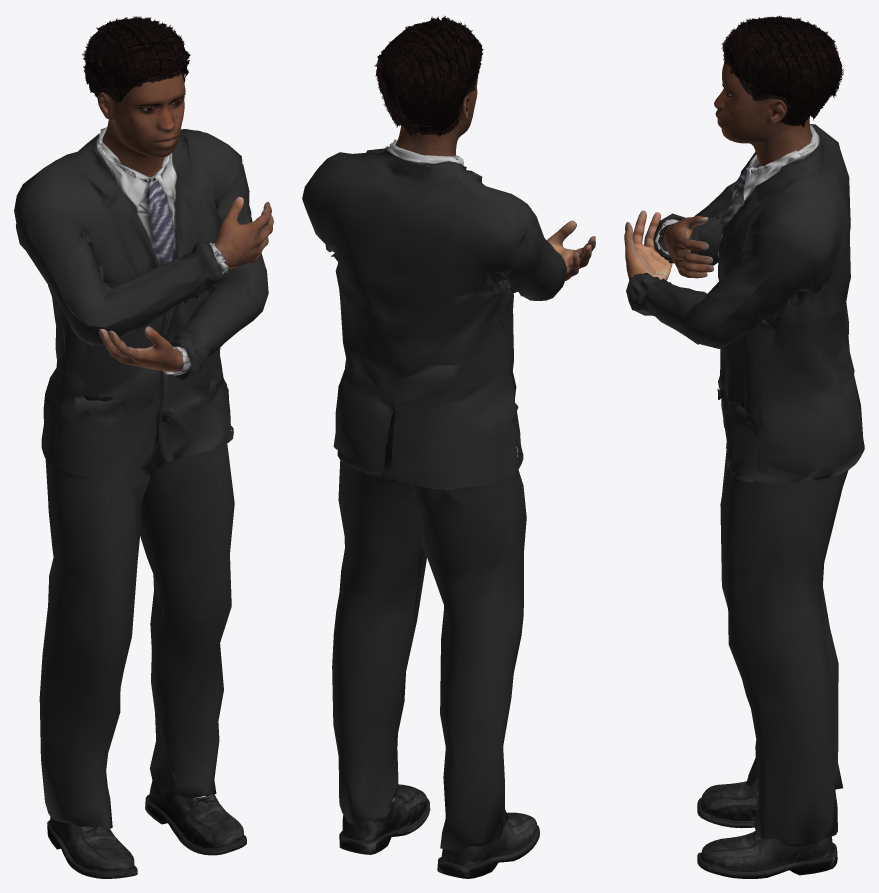
The model's file is security.glb.
3 renders of one model, left to right at view 1: azimuth 30°, elevation 25°; view 2: azimuth 150°, elevation 25°; view 3: azimuth 270°, elevation 25°, orthographic.
Visible parts, largest first — view 1: male_elegantsuit01, Jordan | anatomical body, shoes04, afro01; view 2: male_elegantsuit01, afro01, shoes04, Jordan | anatomical body; view 3: male_elegantsuit01, afro01, Jordan | anatomical body, shoes04.
Part boxes in pixels (x1,y1,x2,y2): male_elegantsuit01: [14, 127, 268, 828]; Jordan | anatomical body: [94, 74, 273, 371]; shoes04: [47, 773, 246, 878]; afro01: [82, 16, 190, 102]; male_elegantsuit01: [302, 139, 566, 850]; afro01: [374, 16, 483, 137]; shoes04: [339, 784, 539, 878]; Jordan | anatomical body: [395, 76, 595, 280]; male_elegantsuit01: [626, 124, 864, 843]; afro01: [721, 16, 843, 128]; Jordan | anatomical body: [624, 62, 812, 280]; shoes04: [697, 781, 837, 878].
Bounding box in the file's own units: 0.525 × 1.85 × 0.4903.
7 materials, 7 textured.
